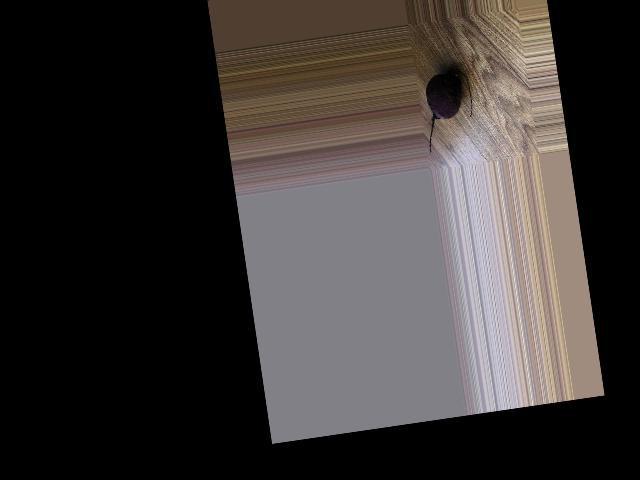beet: (418, 67, 478, 153)
